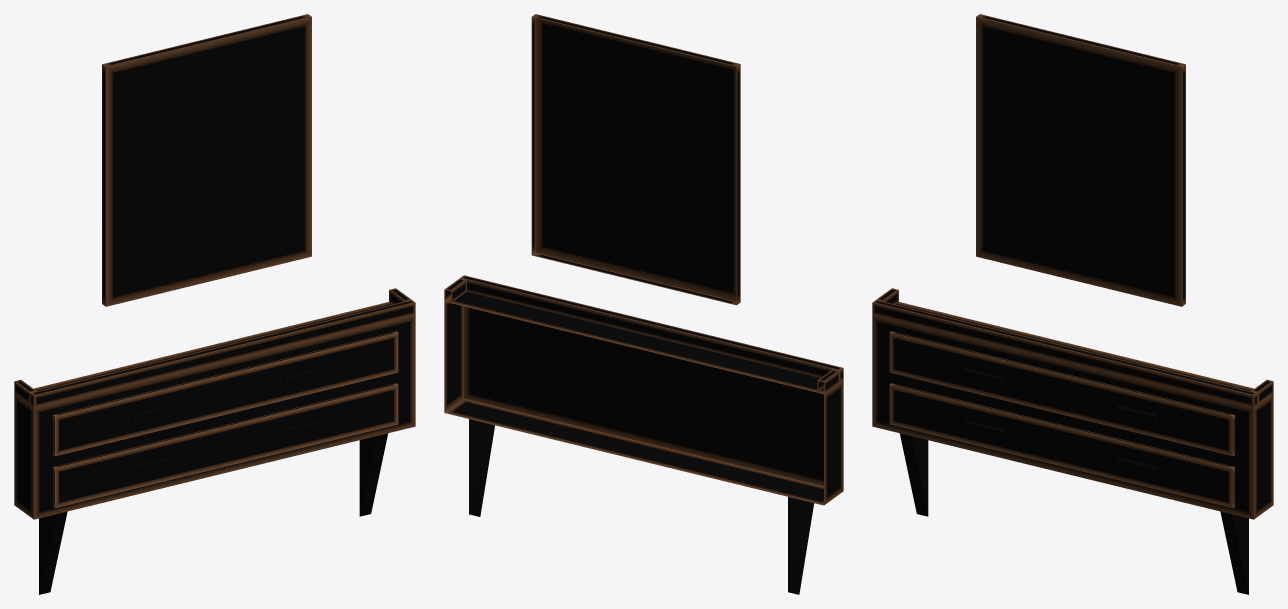
File: chart_case.glb
The picture shows the model from 3 angles, left to right: view 1: azimuth 30°, elevation 25°; view 2: azimuth 150°, elevation 25°; view 3: azimuth 330°, elevation 25°; orthographic projection.
Visible parts, largest first — view 1: frame, chart, teak, dark, brass; view 2: frame; view 3: frame, chart, teak, dark, brass.
Part boxes in pixels (x1,y1,x2,y2): frame: (14, 14, 415, 594); chart: (121, 37, 297, 287); teak: (53, 331, 398, 508); dark: (121, 94, 289, 274); brass: (131, 368, 323, 472); frame: (444, 14, 843, 594); frame: (872, 14, 1273, 594); chart: (990, 37, 1166, 287); teak: (889, 331, 1234, 508); dark: (990, 52, 1158, 261); brass: (964, 368, 1156, 472).
Size of the model in its own units: 1 by 1.29 by 0.1053.
